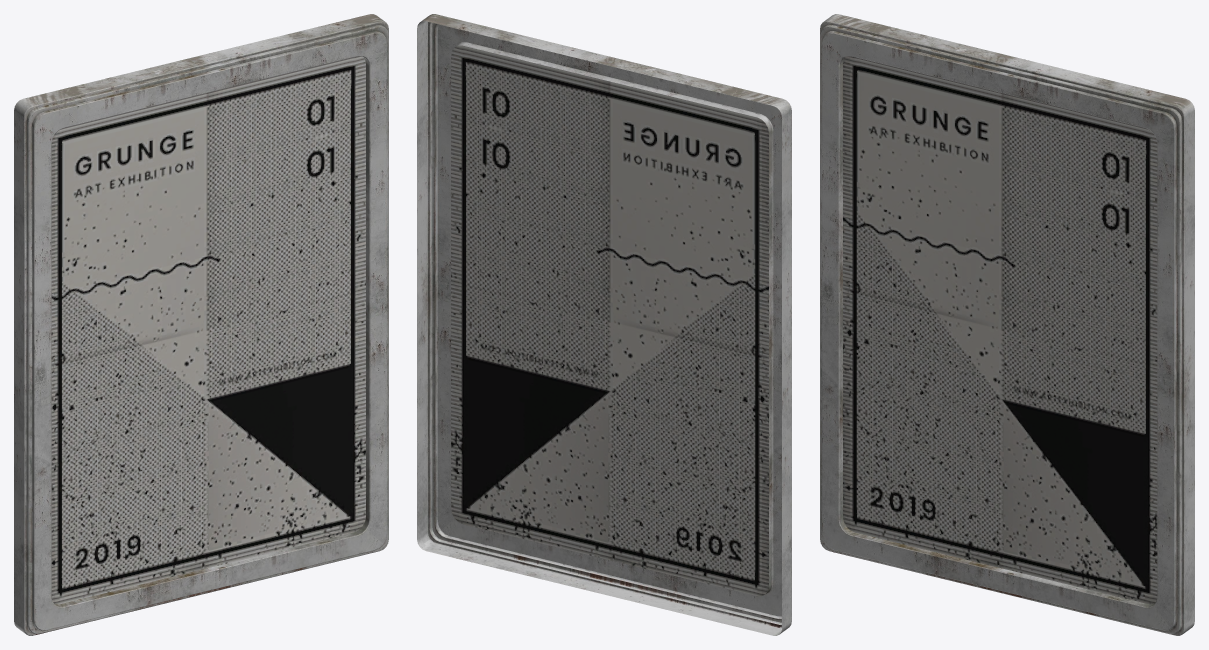
The model's file is SM_Billboard01.glb.
3 views of the same model, side by side, from view 1: azimuth 30°, elevation 25°; view 2: azimuth 150°, elevation 25°; view 3: azimuth 330°, elevation 25° (orthographic).
Parts seen in each view (by area): view 1: SM_Billboard01; view 2: SM_Billboard01; view 3: SM_Billboard01.
Part boxes in pixels (x1,y1,x2,y2): SM_Billboard01: (14, 14, 388, 635); SM_Billboard01: (417, 14, 791, 635); SM_Billboard01: (820, 14, 1194, 635).
Size of the model in its own units: 1.55 by 2.15 by 0.105.
Materials: 2 (2 with a texture image).
